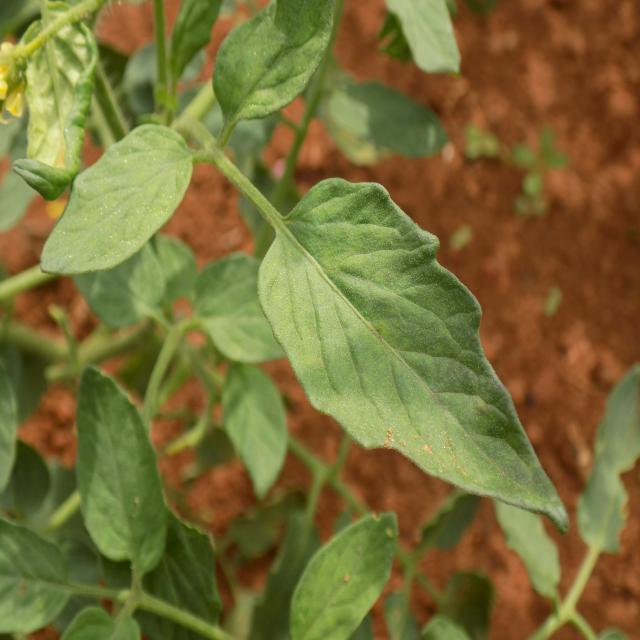tomato_healthy: (254, 168, 568, 535), (38, 118, 204, 284), (76, 358, 166, 576), (209, 0, 336, 141), (214, 346, 291, 498)
